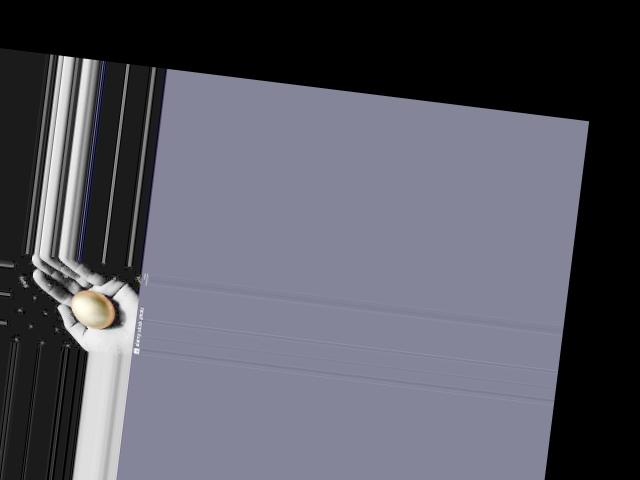egg: (68, 288, 116, 329)
